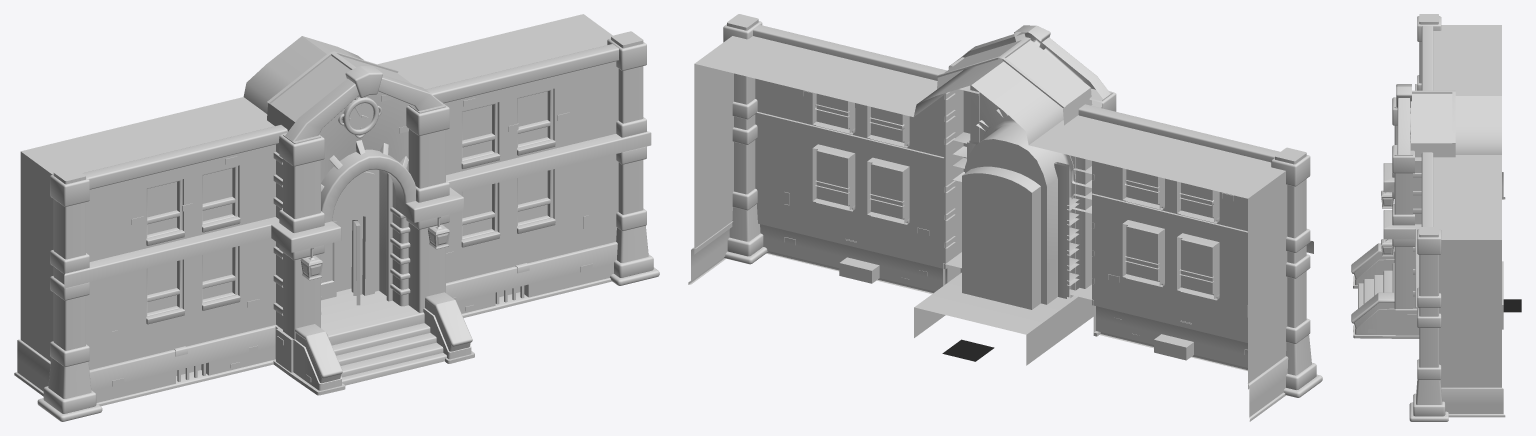
File: Station_Building1.fbx
3 views of the same model, side by side, from view 1: azimuth 30°, elevation 25°; view 2: azimuth 150°, elevation 25°; view 3: azimuth 270°, elevation 25° (orthographic). The views are drawn at different scales.
Visible parts, largest first — view 1: Cube.003, Cube.009, Cube.002, Cube.015, Cube.005, Cube.010, Cube.008, Cube.007, Cube.011, Building_, Cube.016, Cube.004 (+2 smaller); view 2: Cube.003, Cube.015, Cube.002, Cube.010, Cube.008, Cube.009, Cube.005, Cube.007, Plane; view 3: Cube.003, Cube.002, Cube.009, Cube.008, Cube.007, Cube.015, Cube.005, Cube.010, Cube.011, Cube.016, Plane, Cube.004.
Part boxes in pixels (bbox=[...]): Cube.003: bbox=[20, 14, 618, 386]; Cube.009: bbox=[279, 66, 449, 339]; Cube.002: bbox=[37, 31, 659, 421]; Cube.015: bbox=[14, 242, 617, 406]; Cube.005: bbox=[64, 131, 651, 288]; Cube.010: bbox=[321, 288, 446, 385]; Cube.008: bbox=[267, 51, 412, 131]; Cube.007: bbox=[272, 300, 474, 395]; Cube.011: bbox=[295, 292, 472, 378]; Building_: bbox=[338, 96, 381, 138]; Cube.016: bbox=[300, 216, 449, 280]; Cube.004: bbox=[273, 140, 408, 315]; Cube.003: bbox=[694, 24, 1287, 389]; Cube.015: bbox=[688, 221, 1288, 421]; Cube.002: bbox=[723, 14, 1322, 397]; Cube.010: bbox=[914, 272, 1093, 365]; Cube.008: bbox=[936, 37, 1092, 125]; Cube.009: bbox=[948, 25, 1116, 290]; Cube.005: bbox=[757, 111, 1313, 253]; Cube.007: bbox=[943, 252, 1100, 336]; Plane: bbox=[942, 339, 994, 361]; Cube.003: bbox=[1368, 25, 1501, 387]; Cube.002: bbox=[1409, 14, 1448, 421]; Cube.009: bbox=[1392, 84, 1414, 308]; Cube.008: bbox=[1410, 90, 1455, 157]; Cube.007: bbox=[1353, 252, 1419, 338]; Cube.015: bbox=[1441, 172, 1505, 417]; Cube.005: bbox=[1383, 84, 1421, 307]; Cube.010: bbox=[1358, 261, 1503, 329]; Cube.011: bbox=[1351, 243, 1394, 323]; Cube.016: bbox=[1381, 190, 1393, 256]; Plane: bbox=[1503, 299, 1521, 312]; Cube.004: bbox=[1410, 143, 1421, 296].
Bounding box in the file's own units: 27.1 × 12.23 × 8.51.
